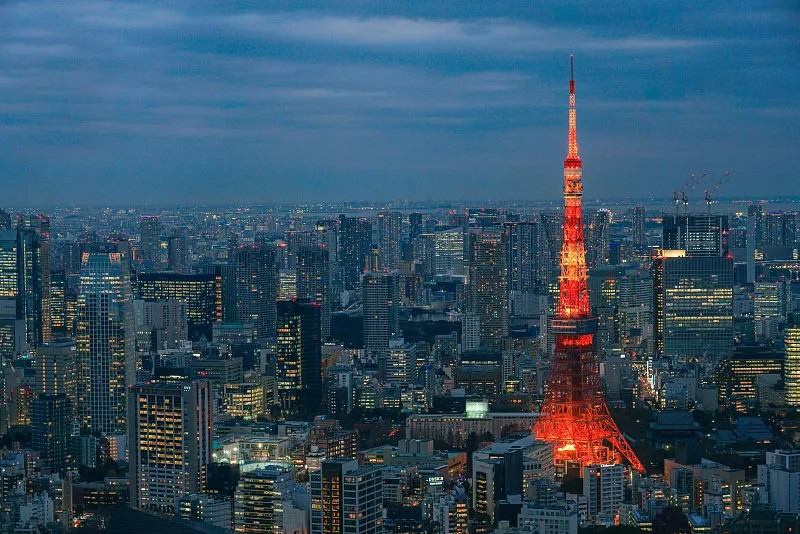Tokyo: (531, 53, 646, 474)
